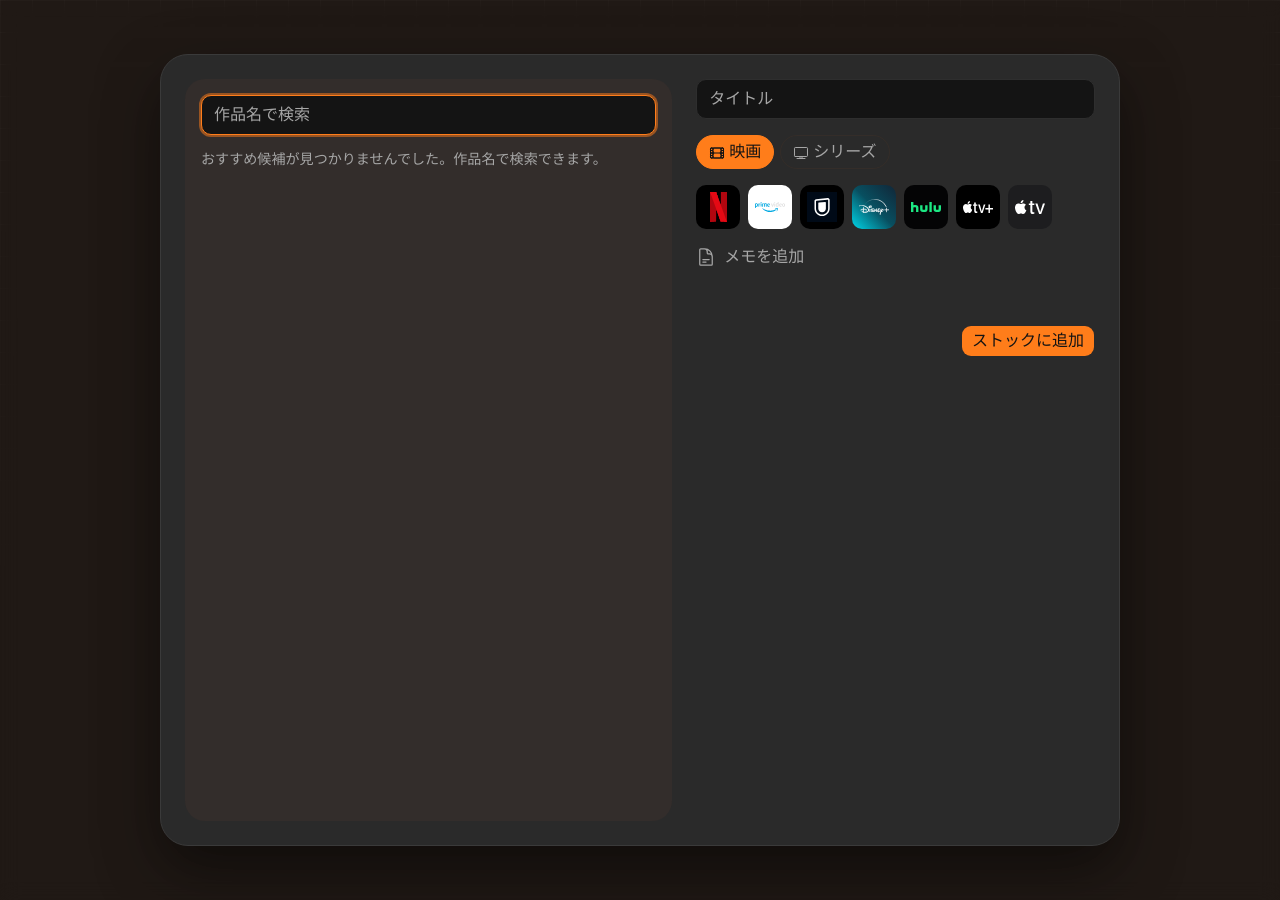
Scenario: AddModal › カード保存失敗時はエラーメッセージを出してモーダルを閉じない
Type "失敗作品" into the field labelled "タイトル" at coordinates (896, 99), box [696,79,1095,119]
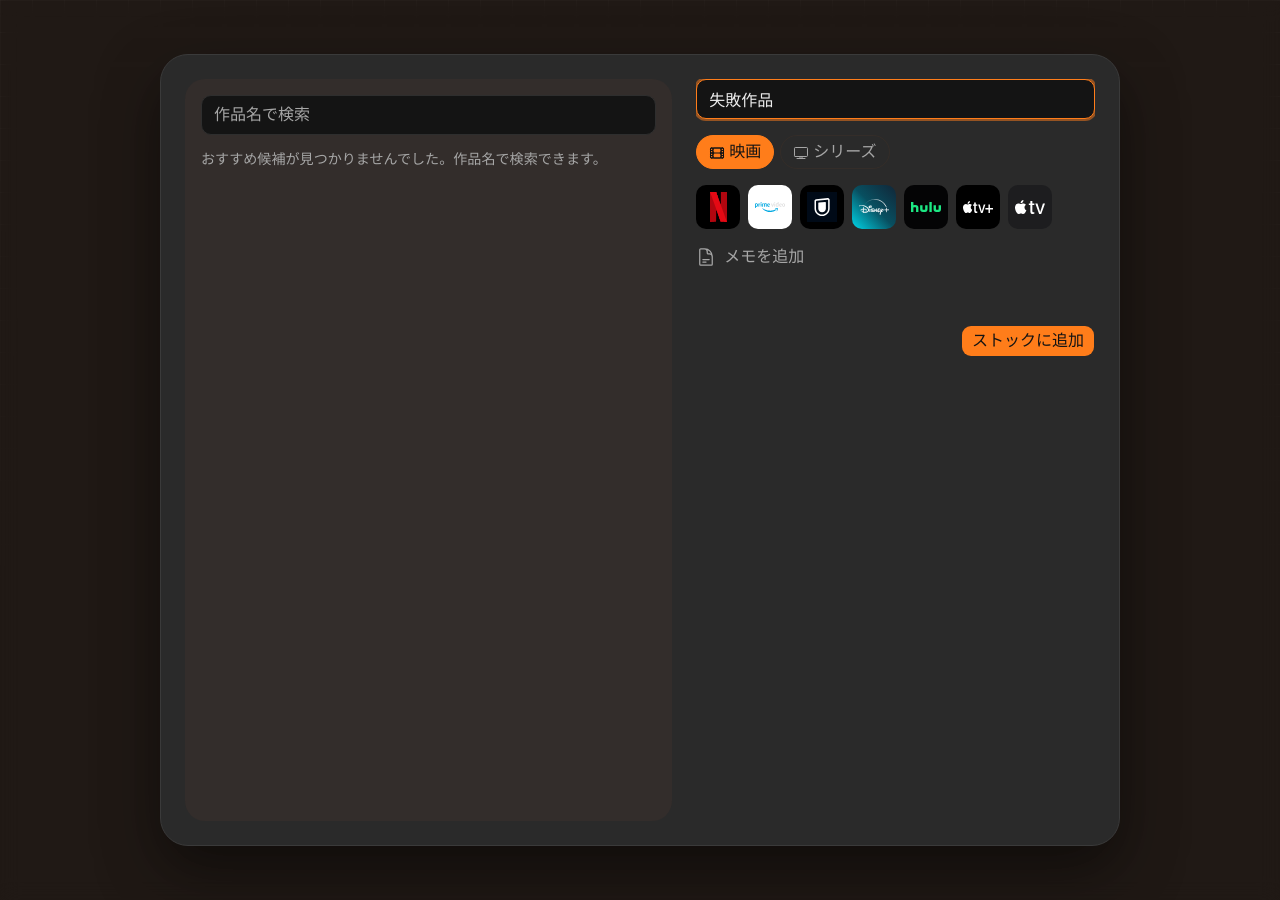
Click the button "ストックに追加" at coordinates (1028, 341), box [961,325,1095,357]
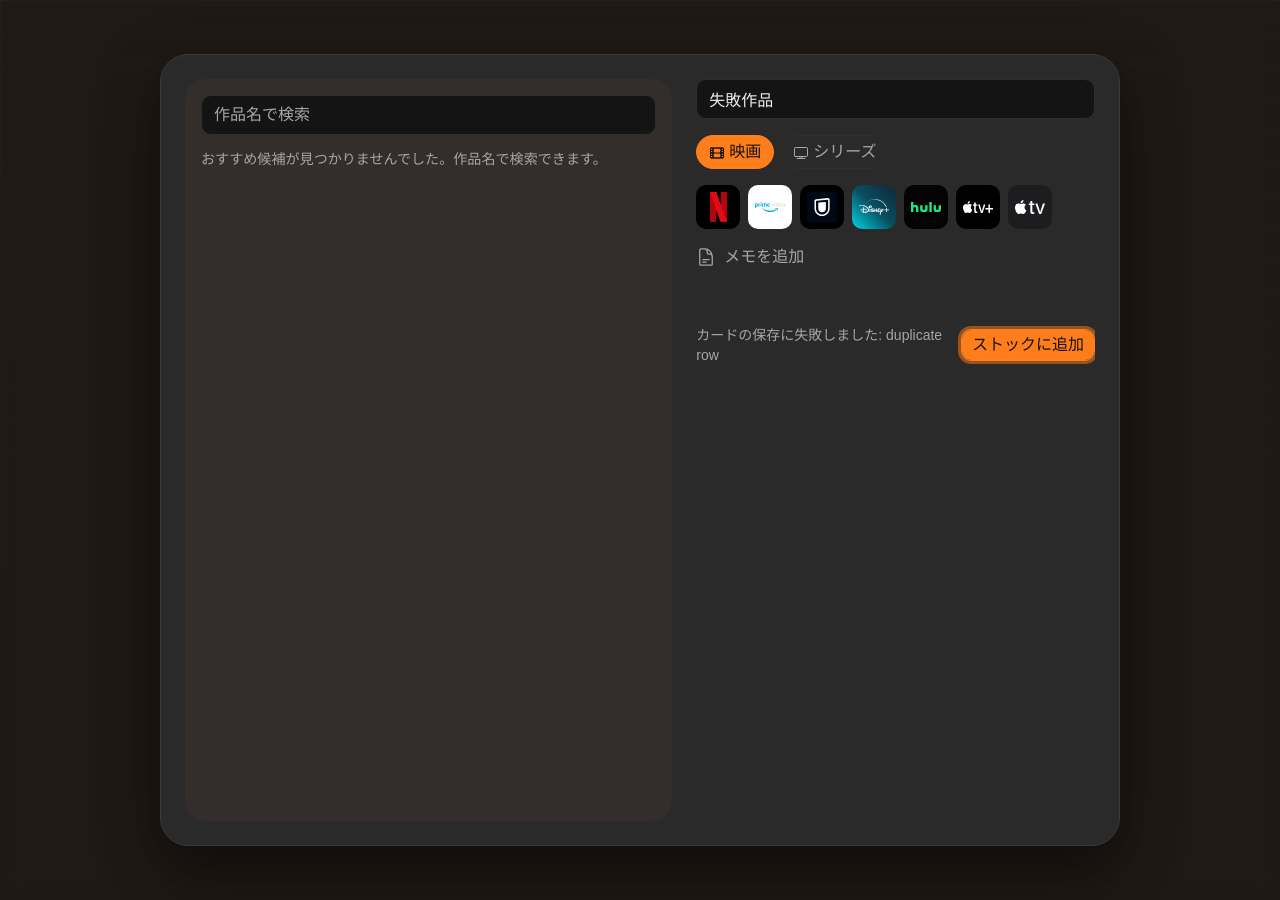
Expected: the text "カードの保存に失敗しました: duplicate row" is shown, [696,325,949,365]
